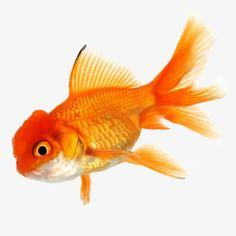goldfish: (11, 78, 177, 189)
